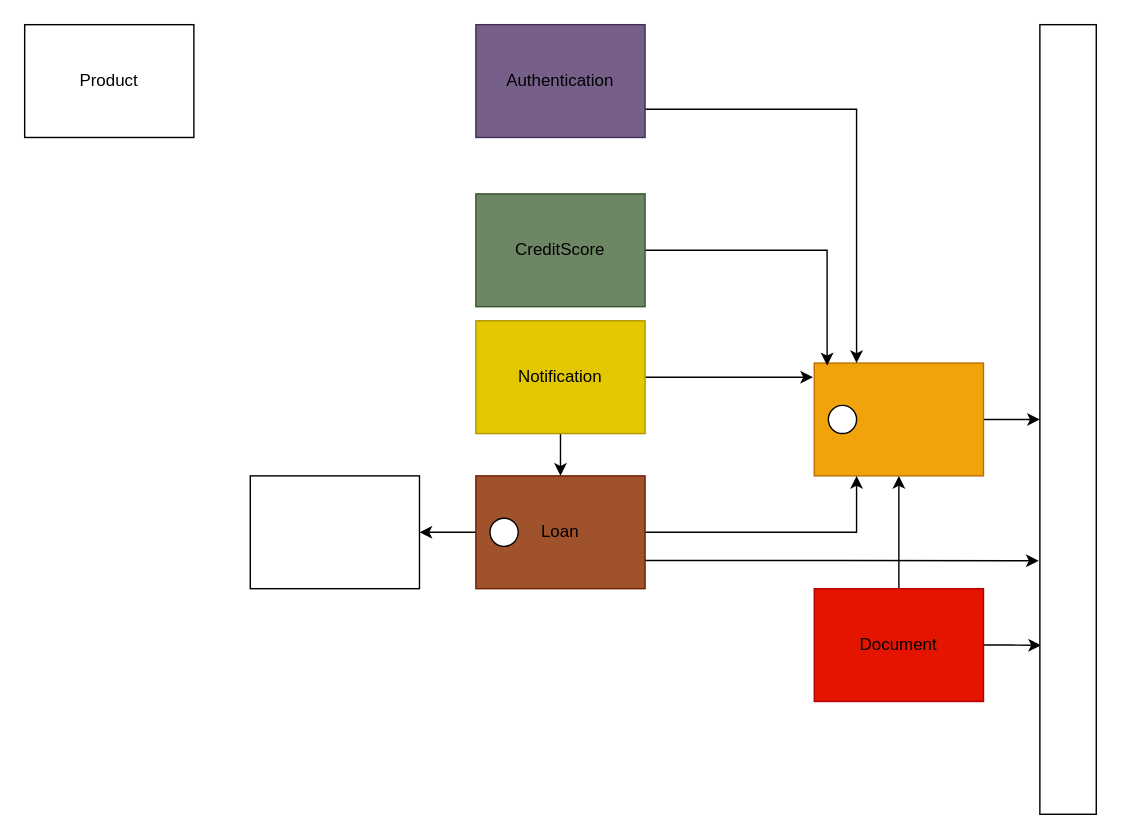
The diagram is 1121 pixels wide and 839 high, and some of its shapes have lost their labels. Here are the shapes that lost their labels. From the top down, the box of each, then its label:
(813, 362, 983, 476): Customer
(1038, 23, 1096, 814): NLS
(249, 474, 419, 589): Application
